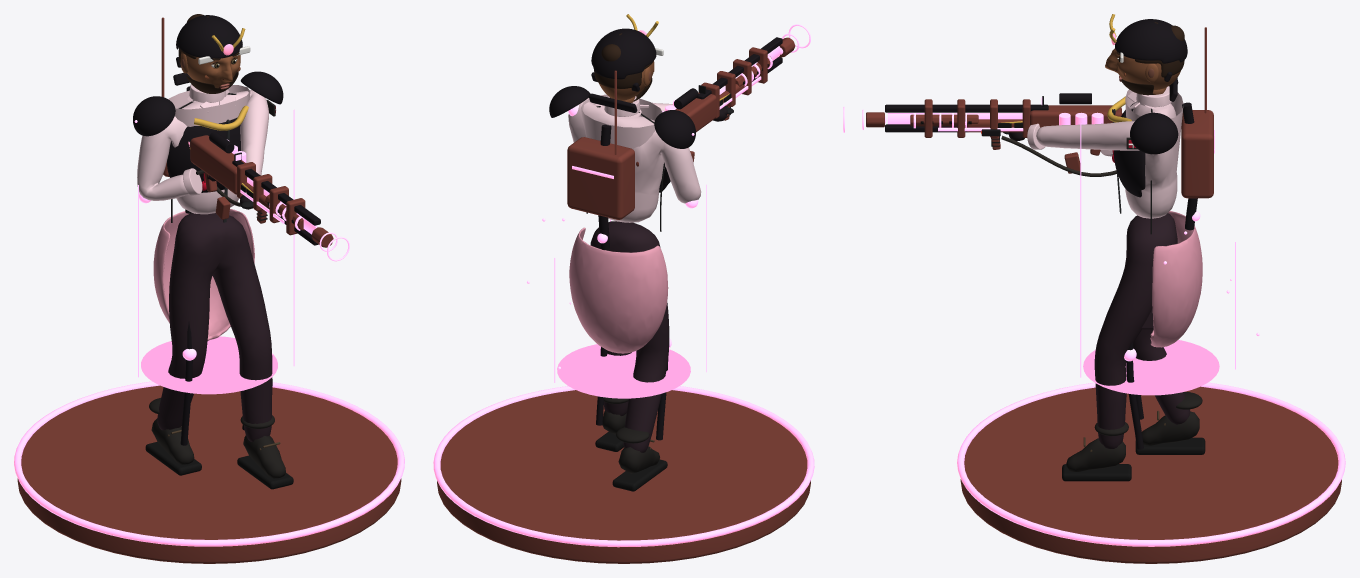
File: skinne_sakura.glb
3 views of the same model, side by side, from view 1: azimuth 30°, elevation 25°; view 2: azimuth 150°, elevation 25°; view 3: azimuth 270°, elevation 25° (orthographic). The views are drawn at different scales.
Visible parts, largest first — view 1: fod_net, menneske_net, vaaben_net, op4.002_net, hoved_net, op2.001_net, op4_net, op4.001_net, op2_net, op3.001_net; view 2: fod_net, menneske_net, op3_net, op4.002_net, hoved_net, vaaben_net, op2.001_net, op4_net, op4.001_net; view 3: fod_net, menneske_net, vaaben_net, hoved_net, op4.002_net, op2.001_net, op3_net, op4_net, op3.001_net, op1_net, op2_net.
Part boxes in pixels (x1=…): fod_net: x1=14, y1=381, x2=404, y2=563; menneske_net: x1=137, y1=84, x2=293, y2=489; vaaben_net: x1=190, y1=131, x2=320, y2=245; op4.002_net: x1=134, y1=109, x2=294, y2=394; hoved_net: x1=173, y1=14, x2=250, y2=93; op2.001_net: x1=133, y1=71, x2=283, y2=192; op4_net: x1=139, y1=86, x2=244, y2=445; op4.001_net: x1=240, y1=189, x2=349, y2=261; op2_net: x1=188, y1=141, x2=267, y2=223; op3.001_net: x1=265, y1=194, x2=333, y2=247; fod_net: x1=433, y1=386, x2=814, y2=563; menneske_net: x1=568, y1=94, x2=733, y2=491; op3_net: x1=567, y1=70, x2=634, y2=219; op4.002_net: x1=527, y1=133, x2=706, y2=398; hoved_net: x1=588, y1=14, x2=663, y2=112; vaaben_net: x1=636, y1=37, x2=782, y2=166; op2.001_net: x1=549, y1=86, x2=695, y2=192; op4_net: x1=568, y1=105, x2=698, y2=440; op4.001_net: x1=719, y1=24, x2=810, y2=109; fod_net: x1=957, y1=382, x2=1345, y2=563; menneske_net: x1=1003, y1=86, x2=1205, y2=481; vaaben_net: x1=885, y1=93, x2=1122, y2=155; hoved_net: x1=1105, y1=14, x2=1187, y2=101; op4.002_net: x1=1080, y1=123, x2=1259, y2=395; op2.001_net: x1=1107, y1=80, x2=1178, y2=197; op3_net: x1=1181, y1=27, x2=1214, y2=198; op4_net: x1=1124, y1=102, x2=1200, y2=449; op3.001_net: x1=866, y1=112, x2=978, y2=127; op1_net: x1=998, y1=123, x2=1116, y2=176; op2_net: x1=981, y1=96, x2=1114, y2=173.
Size of the model in its own units: 1.94 by 2.55 by 2.5.
